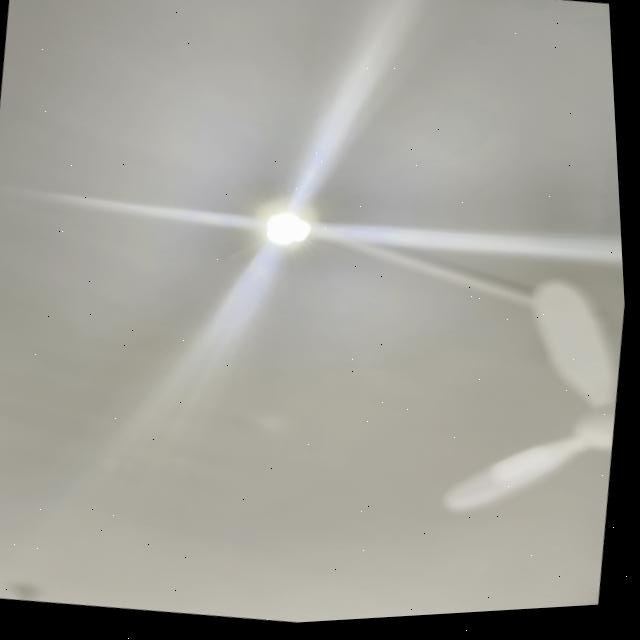fluorescent tube: (211, 160, 348, 284)
